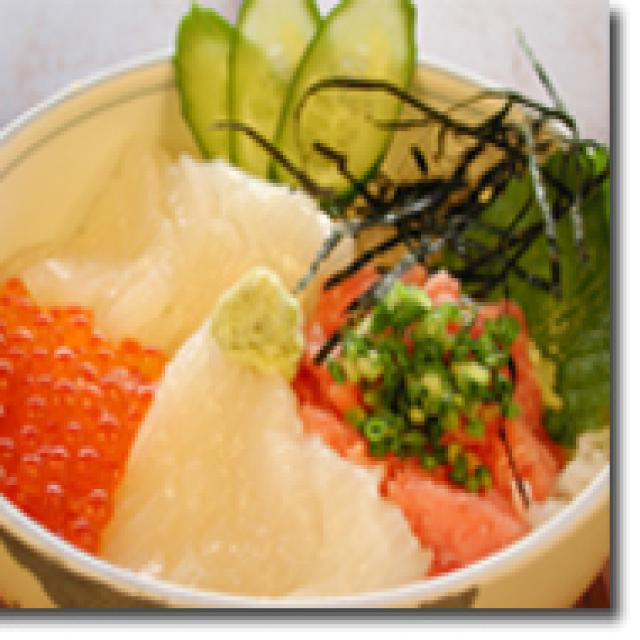刺身生食: (0, 0, 606, 600)
